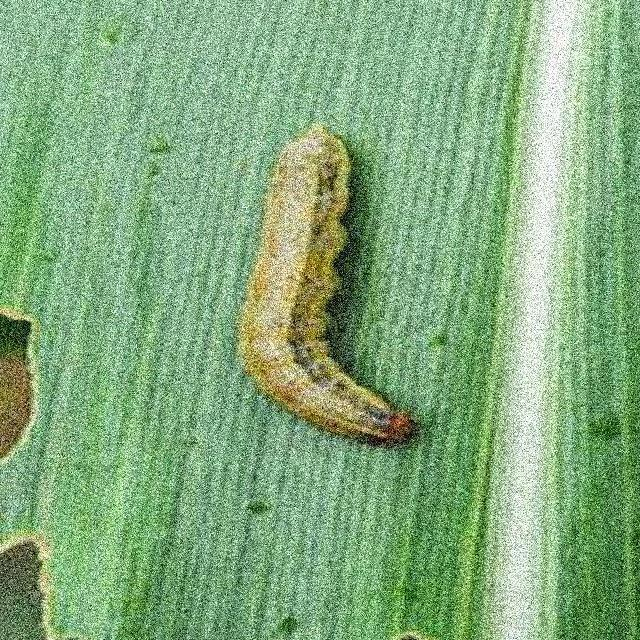gusano_cogollero: (227, 118, 418, 455)
